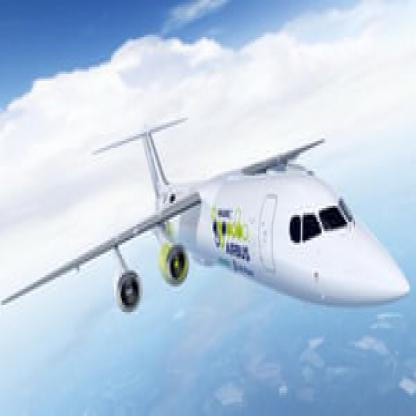CIV_Plane: (4, 109, 411, 354)
